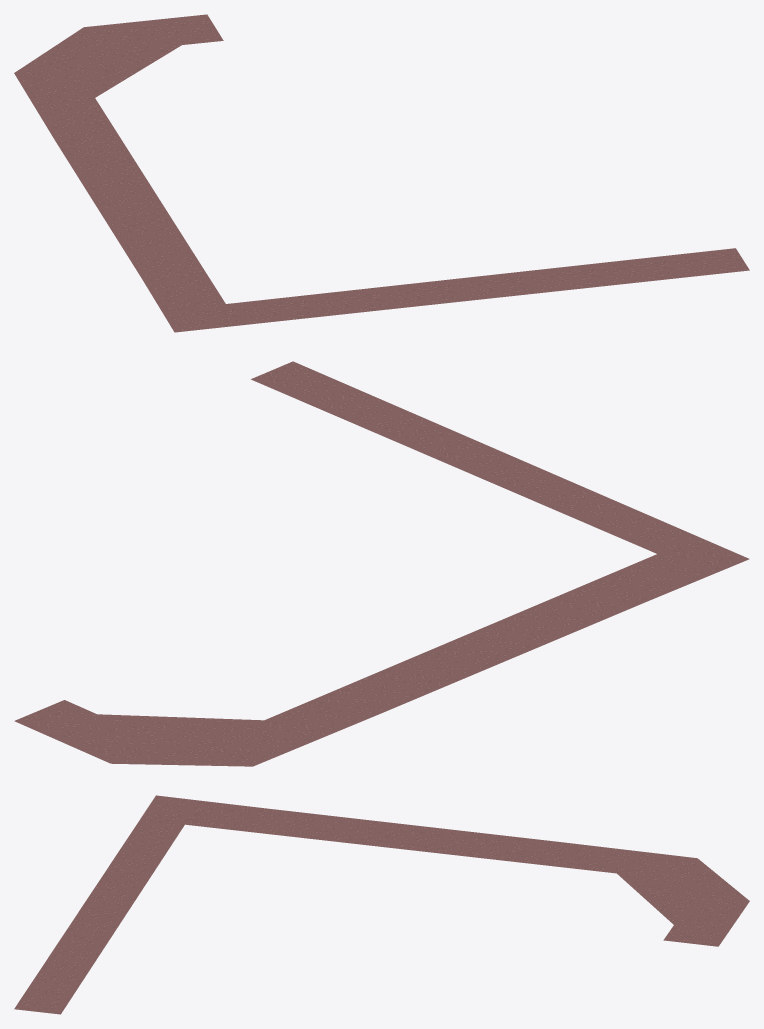
The model's file is kd_stage_136599_0_18.glb.
3 views of the same model, one above another, from view 1: azimuth 30°, elevation 25°; view 2: azimuth 150°, elevation 25°; view 3: azimuth 270°, elevation 25° (orthographic). The views are drawn at different scales.
Parts seen in each view (by area): view 1: kd_stage_136599_0_18; view 2: kd_stage_136599_0_18; view 3: kd_stage_136599_0_18.
Boxes of the visible parts, box(x1,y1,x2,y2) form: kd_stage_136599_0_18: box(14, 14, 749, 332); kd_stage_136599_0_18: box(14, 361, 749, 766); kd_stage_136599_0_18: box(14, 795, 749, 1014).
Size of the model in its own units: 23.99 by 3.81e-06 by 34.05.
Materials: 1 (1 with a texture image).
